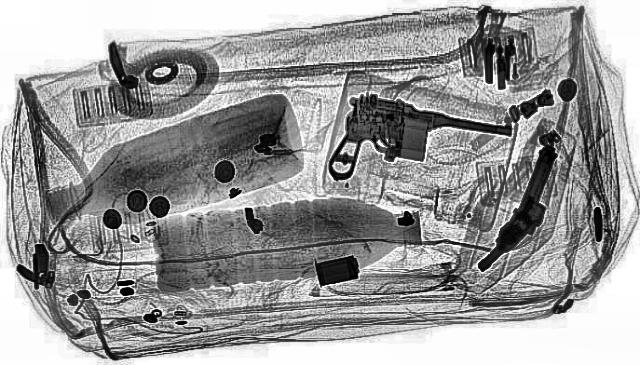Gun: (313, 92, 522, 200), (474, 144, 574, 274)
